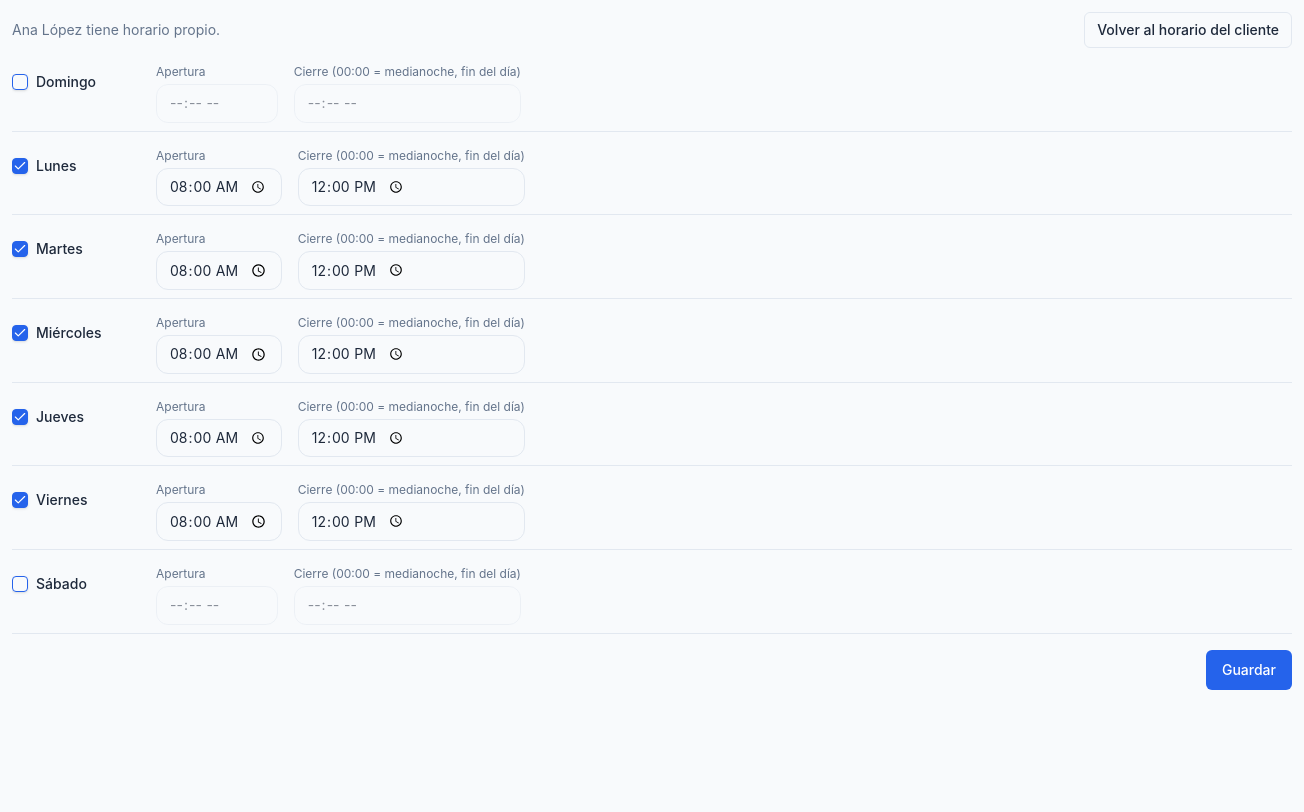
Scenario: HorarioLaboralUsuarioPanel (tiempo-tecnico T2, pedidos-2026-10-26 S6) › un error al guardar conserva la edición y muestra el mensaje del servidor
Expected: the button "Guardar" is shown, [1206,650,1292,690]
Click the checkbox named "Martes" next to "Martes".
click(20, 249)  # box [12,241,28,257]
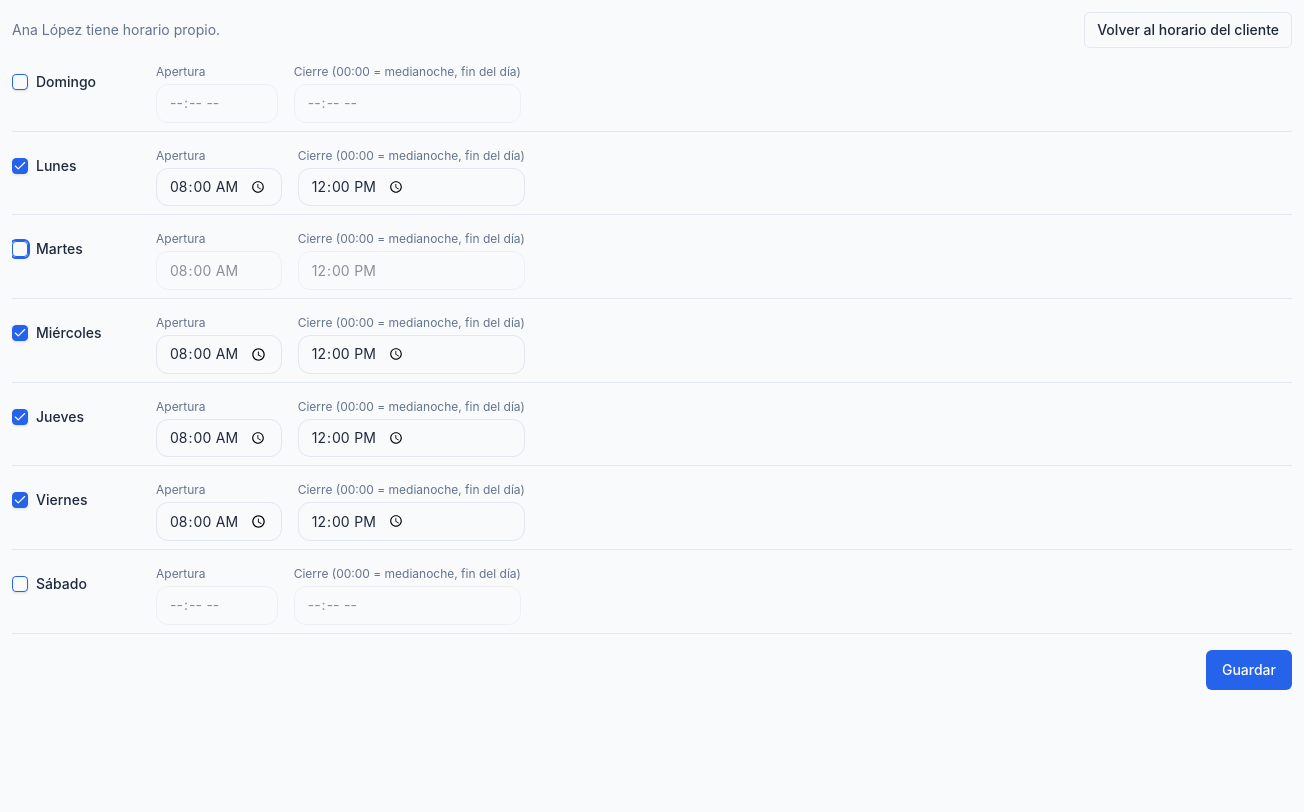
Click the button "Guardar".
click(1249, 670)  # box [1206,650,1292,690]
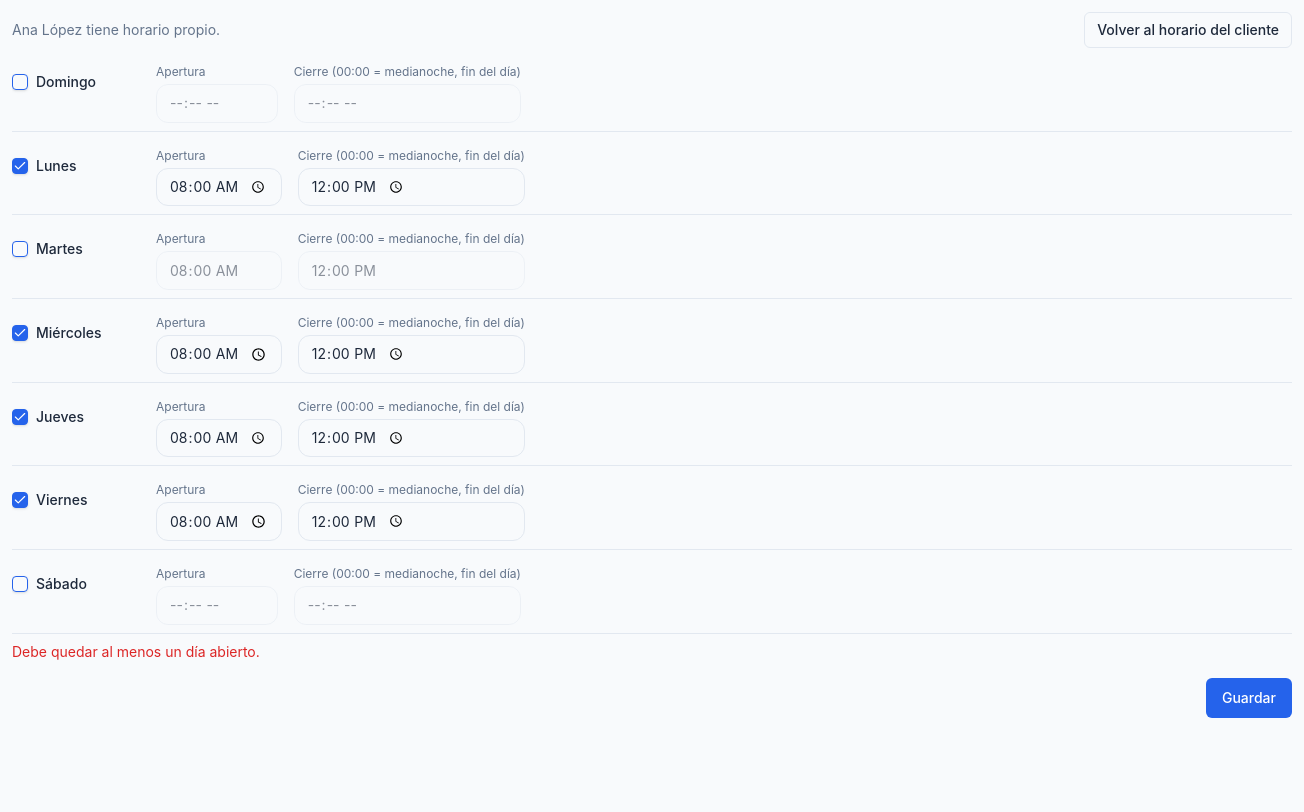
Expected: the checkbox named "Martes" next to "Martes" is not checked, [12,241,28,257]
Expected: the message reads "Debe quedar al menos un día abierto.", [12,643,260,660]
